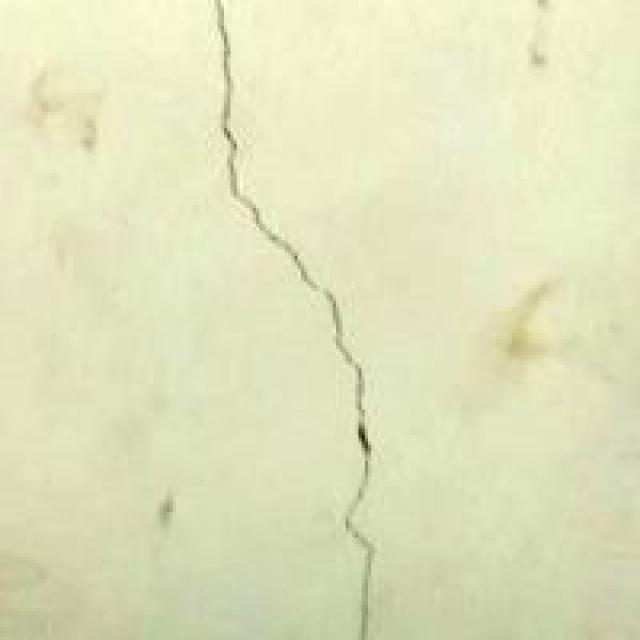crack: (134, 0, 416, 637)
